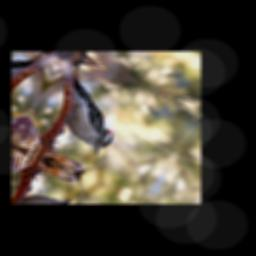Woodpecker: (40, 75, 134, 158)
